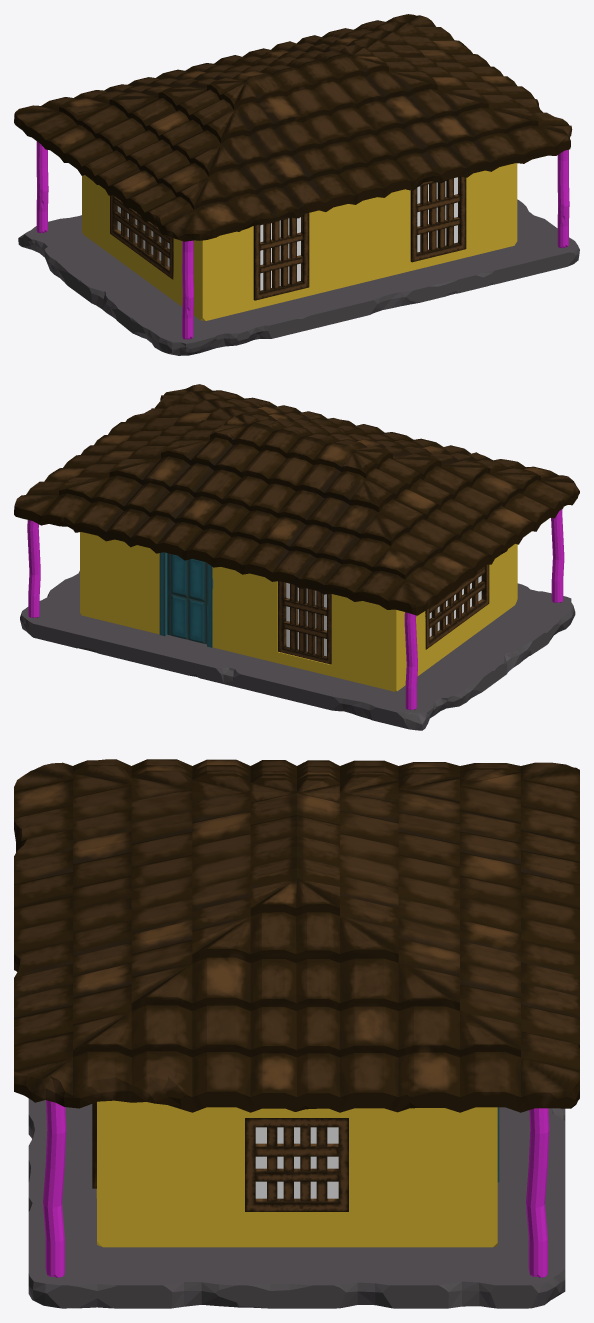
Rendered from TapiaPalmitas.fbx.
3 views of the same model, one above another, from view 1: azimuth 30°, elevation 25°; view 2: azimuth 150°, elevation 25°; view 3: azimuth 270°, elevation 25° (orthographic). The views are drawn at different scales.
Parts seen in each view (by area): view 1: Techo, Piso, Paredes, Ventana3, Ventana2, Soportes, VentanaGrande; view 2: Techo, Piso, Paredes, Puerta, Ventana01, Soportes, VentanaGrande; view 3: Techo, Paredes, Piso, VentanaPequeña, Soportes.
Boxes of the visible parts, <box> form: Techo: <box>14,14,572,241</box>; Piso: <box>18,199,579,355</box>; Paredes: <box>82,163,517,320</box>; Ventana3: <box>253,213,309,300</box>; Ventana2: <box>410,176,466,262</box>; Soportes: <box>36,141,569,339</box>; VentanaGrande: <box>110,195,173,279</box>; Techo: <box>14,384,579,615</box>; Piso: <box>20,571,575,730</box>; Paredes: <box>80,532,517,691</box>; Puerta: <box>159,552,212,647</box>; Ventana01: <box>278,581,331,664</box>; Soportes: <box>27,509,564,709</box>; VentanaGrande: <box>425,564,489,649</box>; Techo: <box>14,759,579,1112</box>; Paredes: <box>96,1100,497,1247</box>; Piso: <box>28,1098,565,1308</box>; VentanaPequeña: <box>245,1118,348,1211</box>; Soportes: <box>43,1100,549,1277</box>.
Size of the model in its own units: 790 by 345 by 567.
